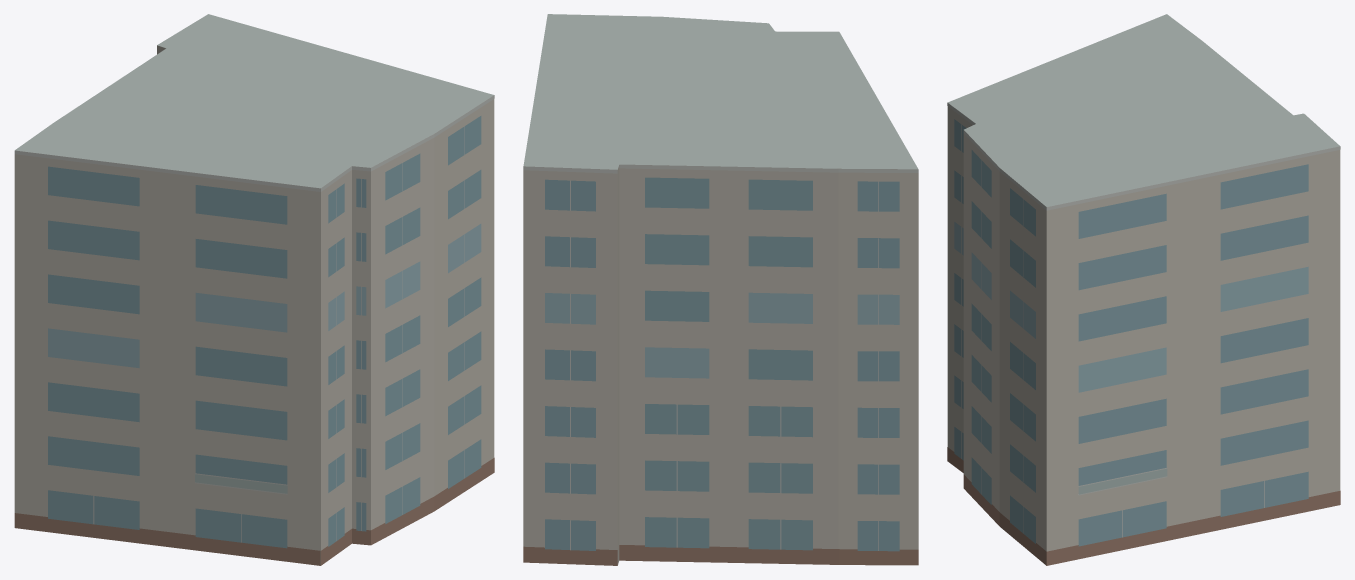
File: survey-upis-32711346.glb
The picture shows the model from 3 angles, left to right: view 1: azimuth 30°, elevation 25°; view 2: azimuth 150°, elevation 25°; view 3: azimuth 270°, elevation 25°; orthographic projection. The views are drawn at different scales.
Visible parts, largest first — view 1: survey-upis-32711346.tmp; view 2: survey-upis-32711346.tmp; view 3: survey-upis-32711346.tmp.
Boxes of the visible parts, x1,y1,x2,y2 form: survey-upis-32711346.tmp: [14, 14, 494, 565]; survey-upis-32711346.tmp: [523, 14, 918, 565]; survey-upis-32711346.tmp: [947, 14, 1340, 565].
Size of the model in its own units: 28.77 by 24.9 by 24.73.
